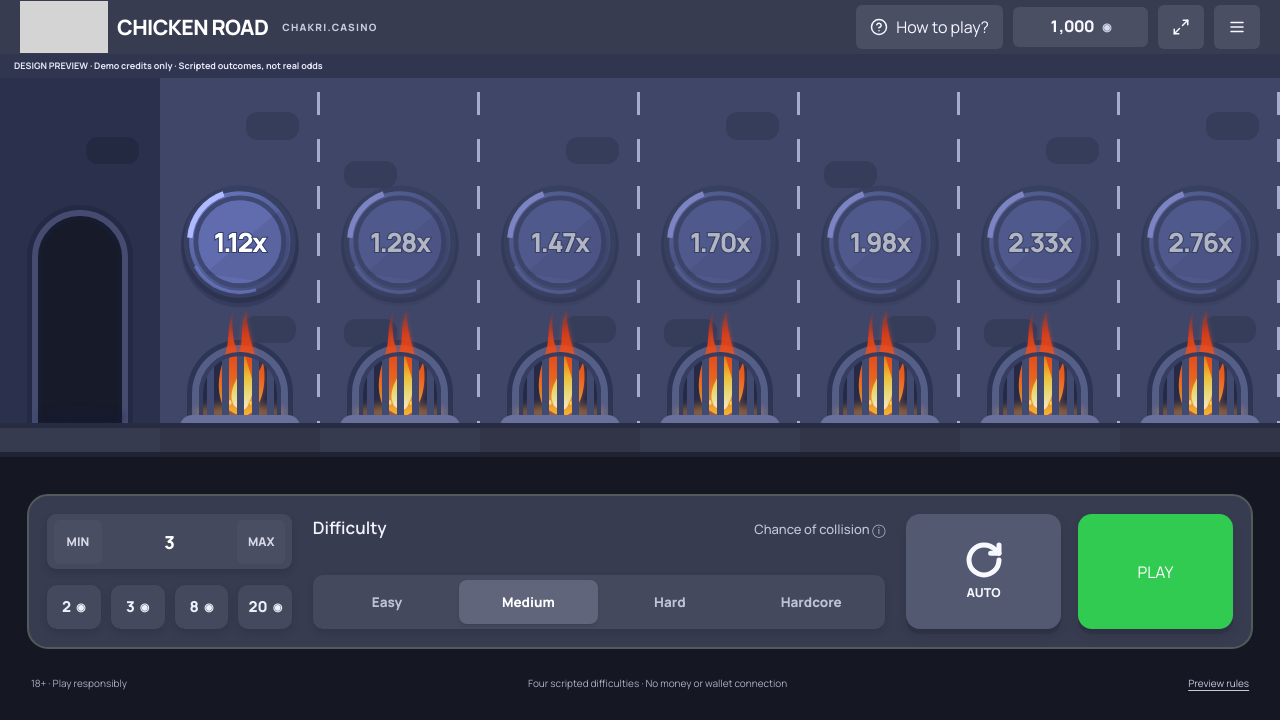
Scenario: a safe departure flares only the previous grate and survives landing until its animation ends
The image size is (1280, 720).
Later steps or results of the test are not shown.
Click the button "Play".
click(1155, 572)  # box [1078,514,1233,629]
Wait 480 ms
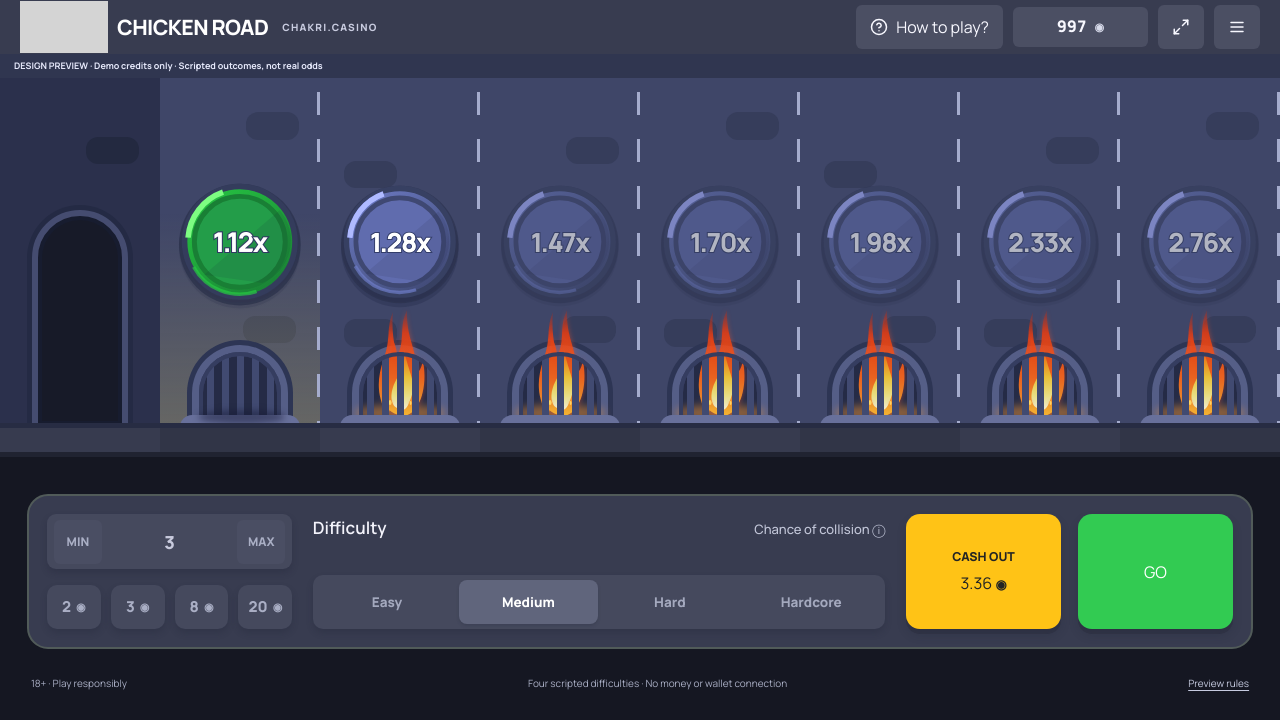
Click the button with test id "road-go".
click(1155, 572)  # box [1078,514,1233,629]
Wait 480 ms
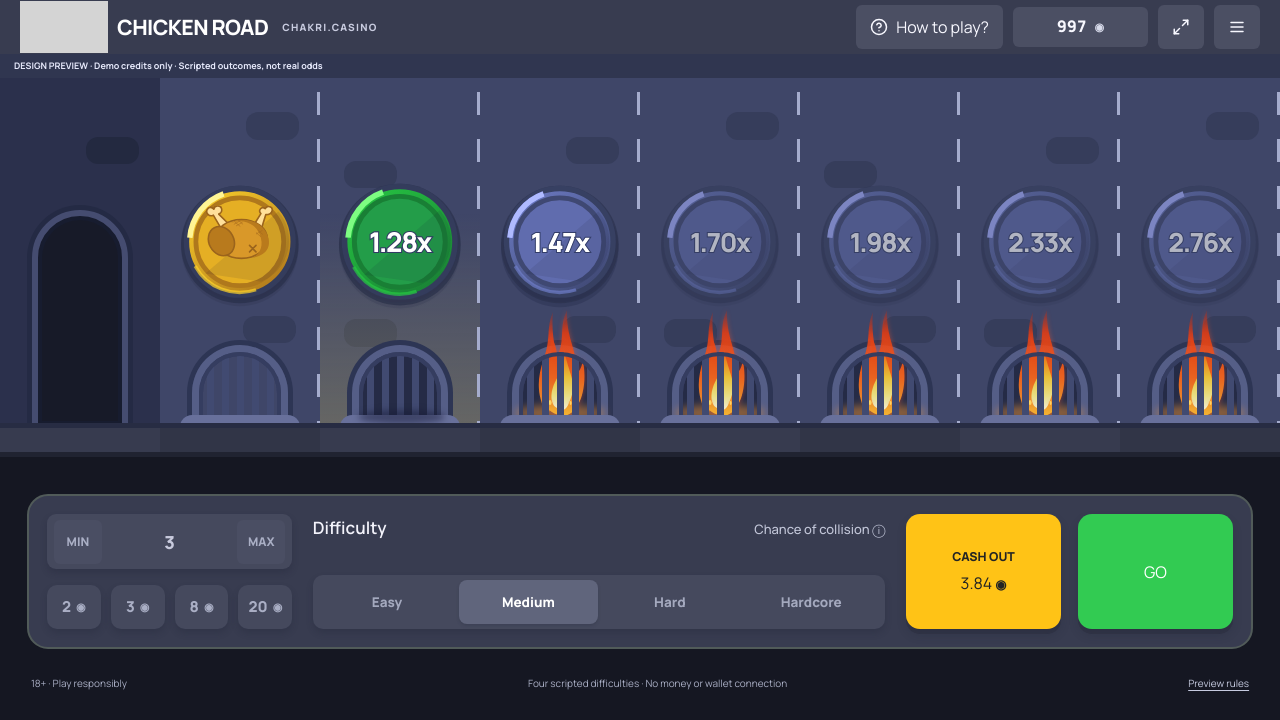
Expected: the element with class "is-firing" is shown, [192,345,288,423]
